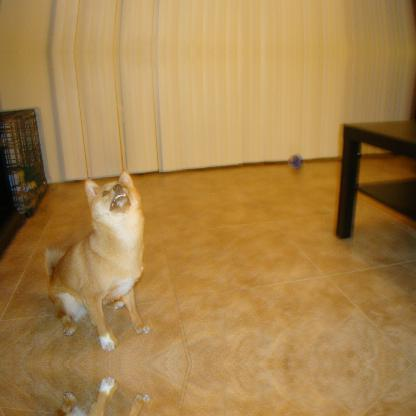Dog: (43, 169, 149, 353), (43, 375, 150, 415)
